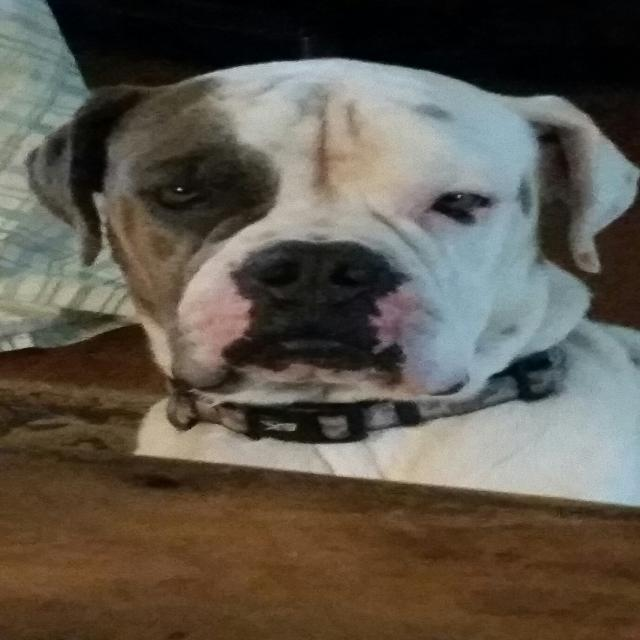dog: (29, 43, 640, 460)
